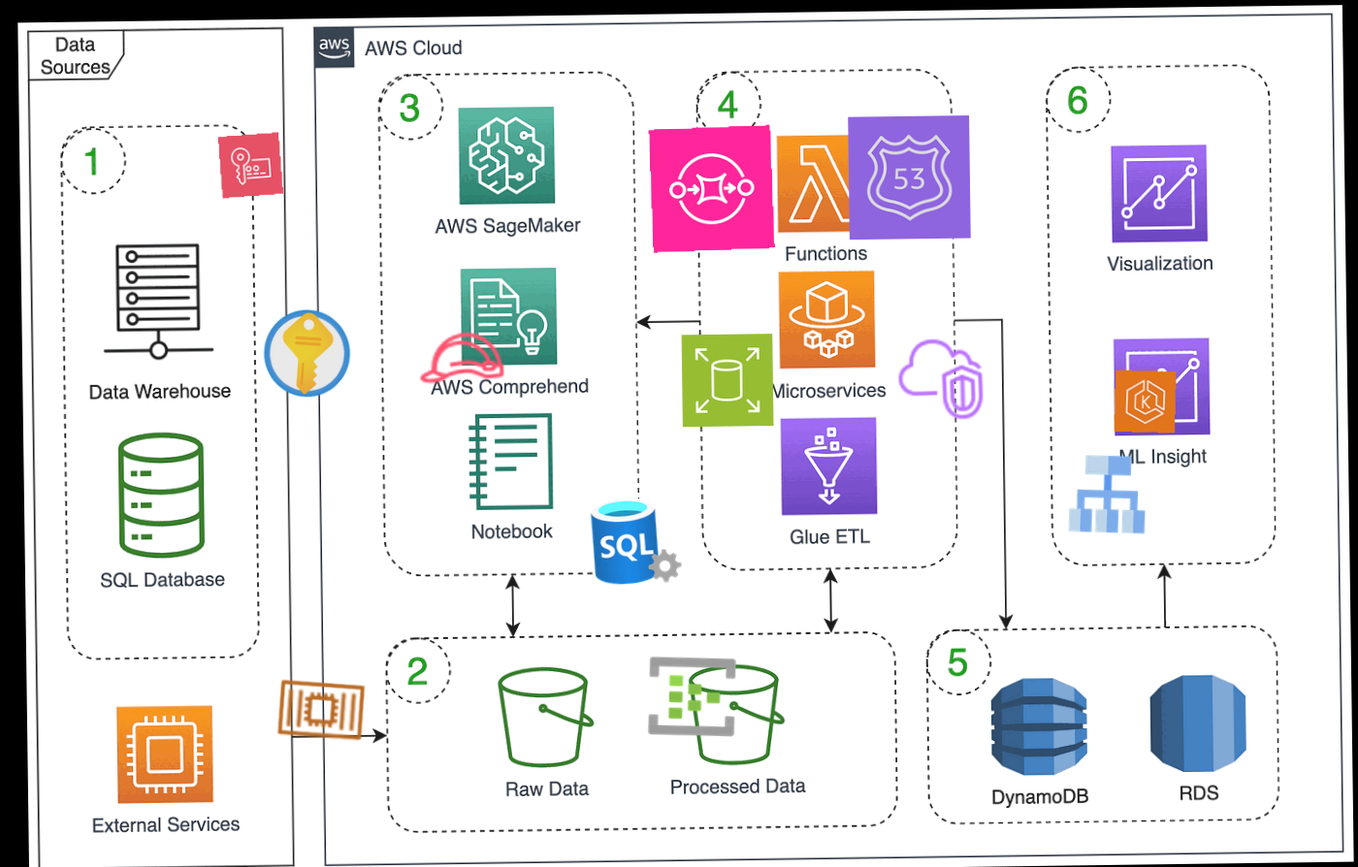aws_amazon_elastic_block_store: (680, 333, 774, 428)
aws_amazon_elastic_kubernetes_service: (1112, 369, 1178, 434)
aws_amazon_route_53: (847, 114, 971, 241)
aws_amazon_simple_queue_service: (648, 124, 774, 252)
aws_elastic_container_service_container_2: (271, 658, 371, 759)
aws_identity_access_management_role: (414, 310, 508, 405)
aws_key_management_service: (217, 132, 282, 198)
aws_vpc_virtual_private_cloud_vpc: (892, 331, 987, 428)
azure_event_hubs: (643, 647, 739, 744)
azure_key_vaults: (257, 303, 356, 403)
azure_sql_server: (587, 491, 685, 590)
gcp_cloud_load_balancing: (1059, 445, 1155, 542)
